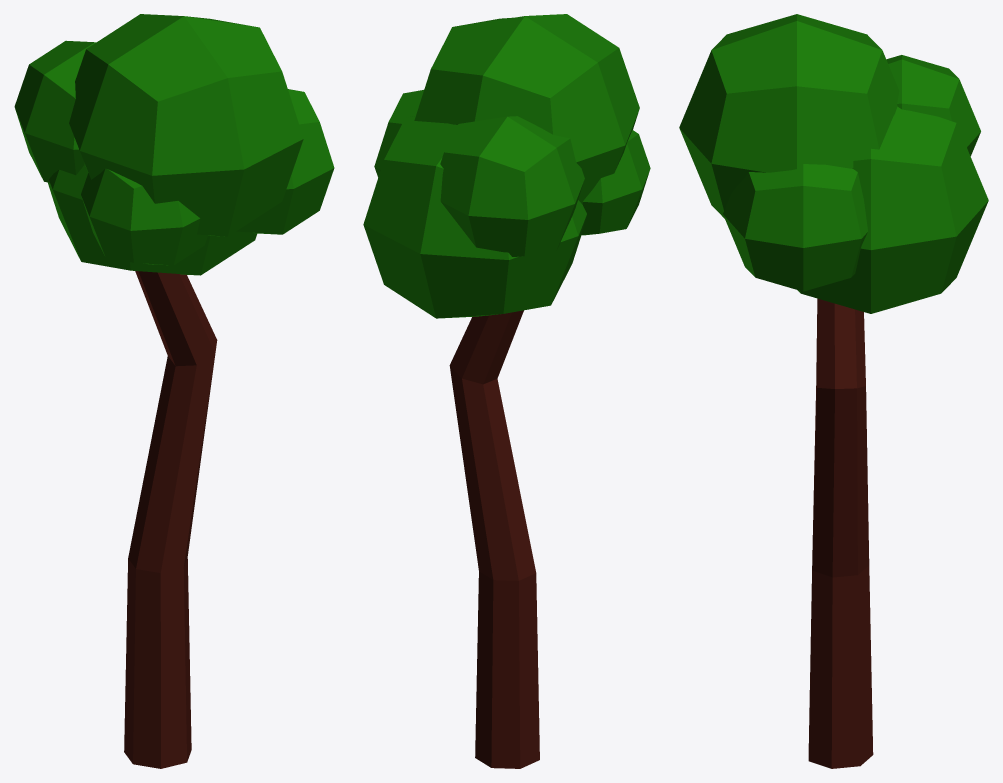
File: low_tree.obj
The picture shows the model from 3 angles, left to right: view 1: azimuth 30°, elevation 25°; view 2: azimuth 150°, elevation 25°; view 3: azimuth 270°, elevation 25°; orthographic projection. The views are drawn at different scales.
Visible parts, largest first — view 1: Cube.005, Cylinder, Cube.001, Cube.002, Cube.003, Cube.004; view 2: Cylinder, Cube.005, Cube.003, Cube.002, Cube.001, Cube.004; view 3: Cube.005, Cylinder, Cube.003, Cube.004, Cube.002.
Part boxes in pixels (<box>): Cube.005: <box>69,14,303,236</box>; Cylinder: <box>124,271,217,768</box>; Cube.001: <box>81,168,207,265</box>; Cube.002: <box>14,40,95,182</box>; Cube.003: <box>47,164,256,275</box>; Cube.004: <box>236,89,334,234</box>; Cylinder: <box>449,310,539,768</box>; Cube.005: <box>414,14,639,204</box>; Cube.003: <box>363,116,586,318</box>; Cube.002: <box>440,116,584,256</box>; Cube.001: <box>581,130,650,235</box>; Cube.004: <box>374,90,423,177</box>; Cube.005: <box>679,14,899,218</box>; Cylinder: <box>808,298,873,768</box>; Cube.003: <box>797,106,988,313</box>; Cube.004: <box>723,164,867,291</box>; Cube.002: <box>886,55,980,156</box>.
Bounding box in the file's own units: 1.36 × 3.88 × 1.48.
